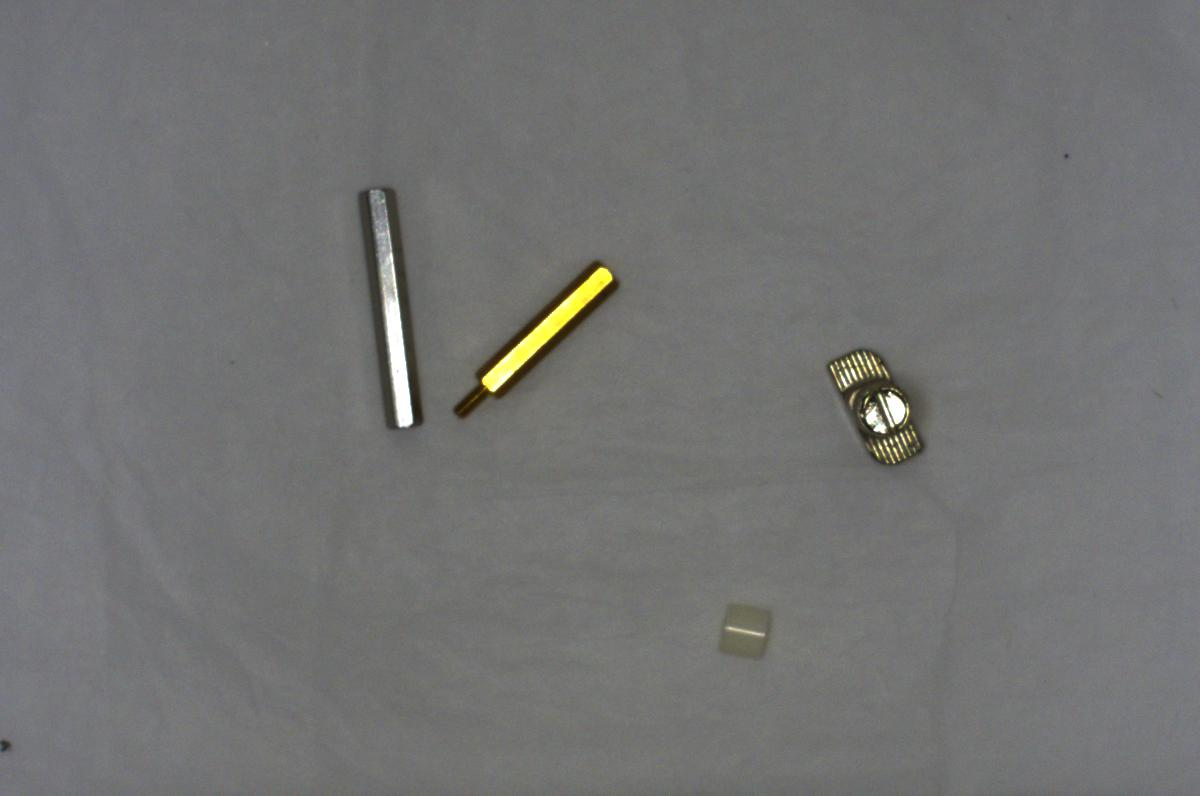Double hexagonal column: (352, 175, 426, 438)
Hexagon pillar: (451, 259, 617, 421)
Plastic cushion pillar: (706, 593, 785, 670)
T-shaped screw: (819, 336, 934, 476)
